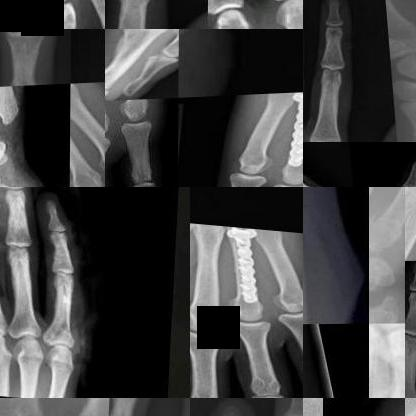fracture: (218, 225, 279, 307), (273, 94, 302, 176), (370, 207, 404, 248), (387, 76, 415, 125)
